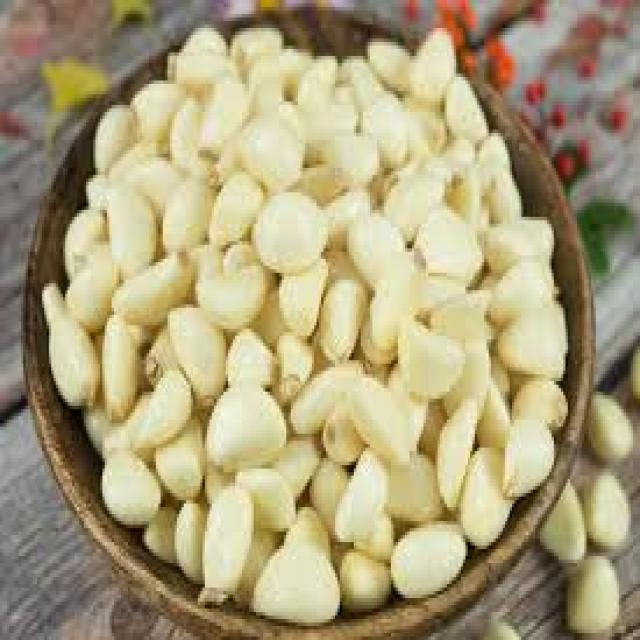garlic: (186, 364, 398, 605), (101, 172, 272, 396), (319, 185, 493, 399)
